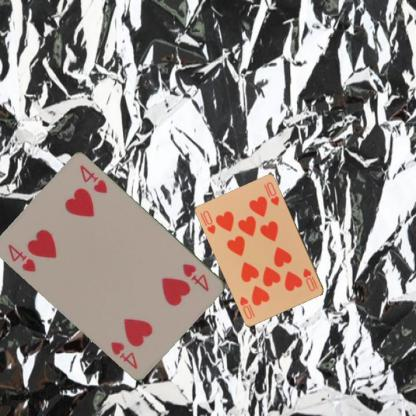10h: (300, 266, 320, 293), (200, 208, 218, 236)
4h: (5, 241, 38, 273), (180, 261, 212, 293)
